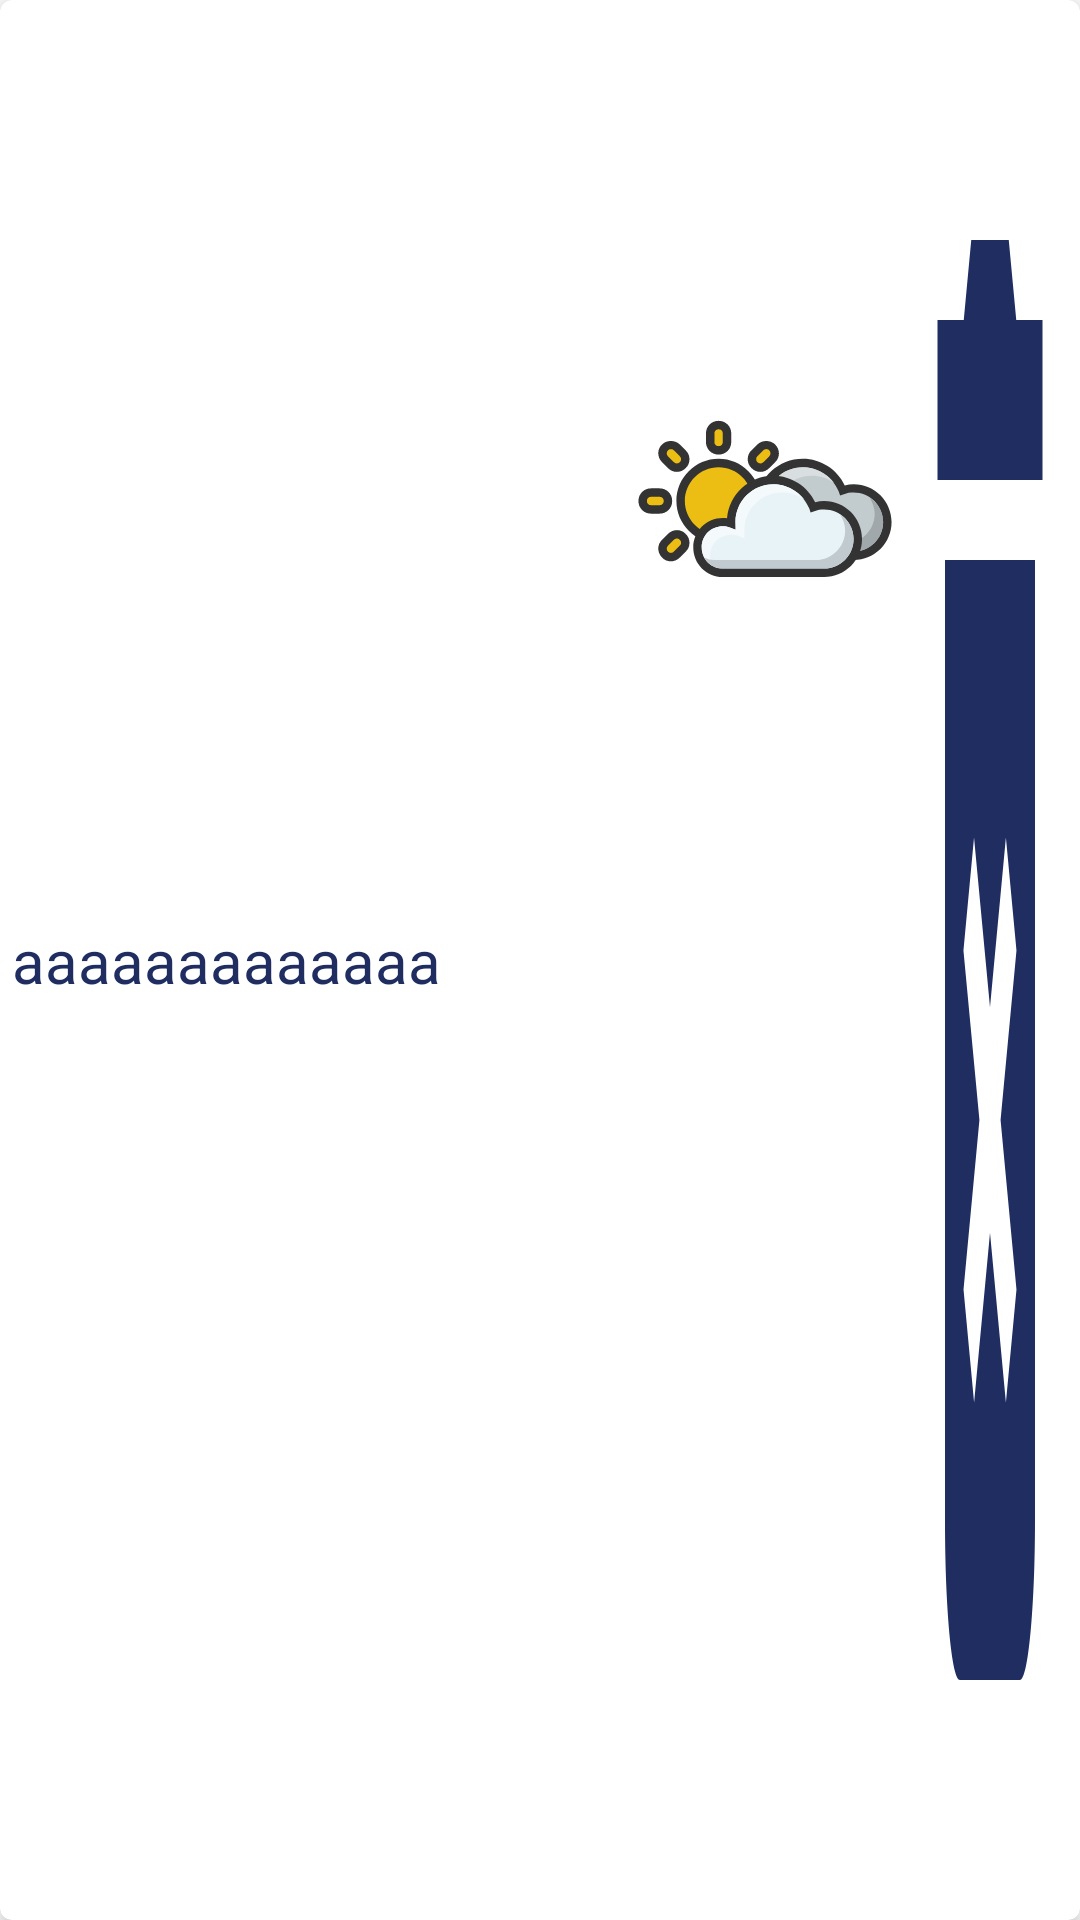

Icon click points for this 1080px×1920px phone screenshot, format [x,y]:
cloudy: [765,498]
